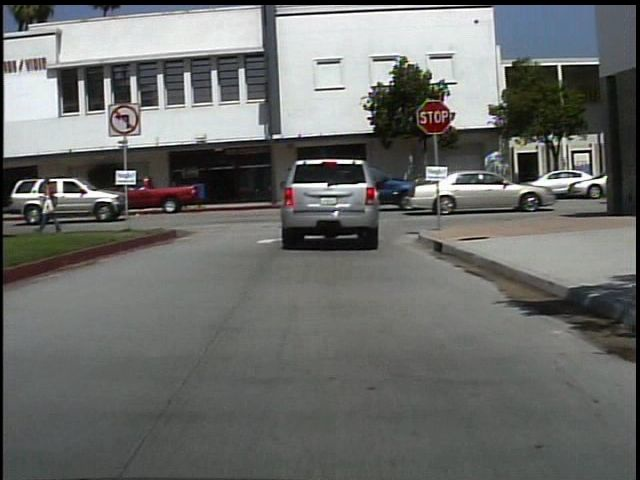person: (34, 172, 71, 236), (276, 160, 305, 236), (142, 172, 165, 211), (164, 172, 183, 209)
